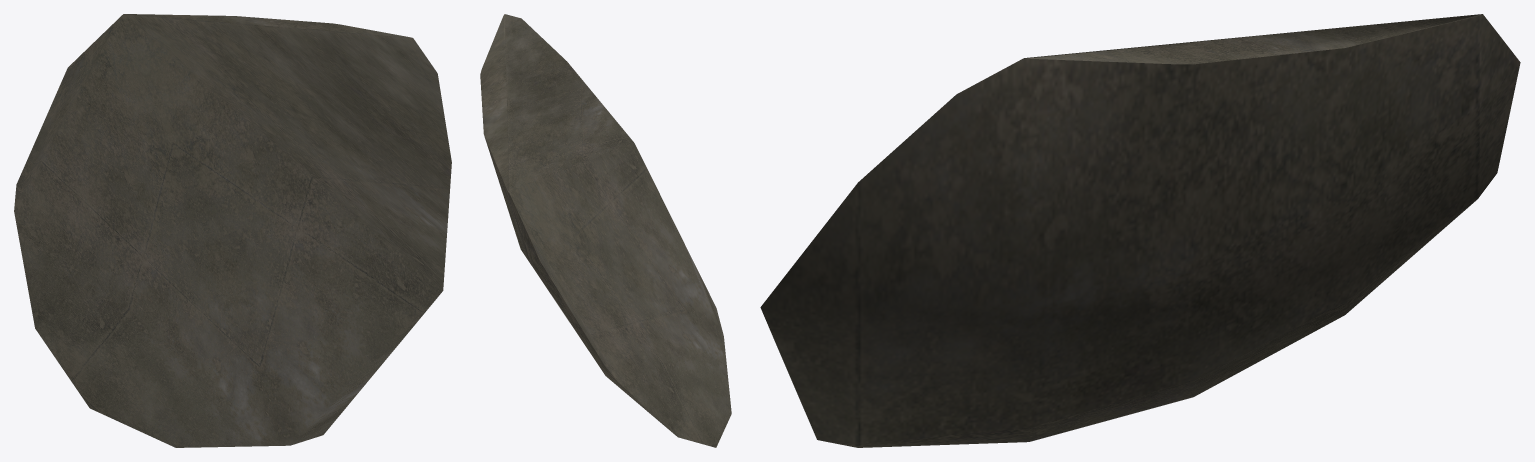
The picture shows the model from 3 angles, left to right: view 1: azimuth 30°, elevation 25°; view 2: azimuth 150°, elevation 25°; view 3: azimuth 270°, elevation 25°; orthographic projection. The views are drawn at different scales.
Visible parts, largest first — view 1: Sphere_cell.007; view 2: Sphere_cell.007; view 3: Sphere_cell.007.
Part boxes in pixels (bbox=[...]): Sphere_cell.007: bbox=[14, 14, 451, 447]; Sphere_cell.007: bbox=[480, 14, 731, 447]; Sphere_cell.007: bbox=[760, 14, 1520, 447].
Bounding box in the file's own units: 1.36 × 1.63 × 1.97.
Materials: 1 (1 with a texture image).
